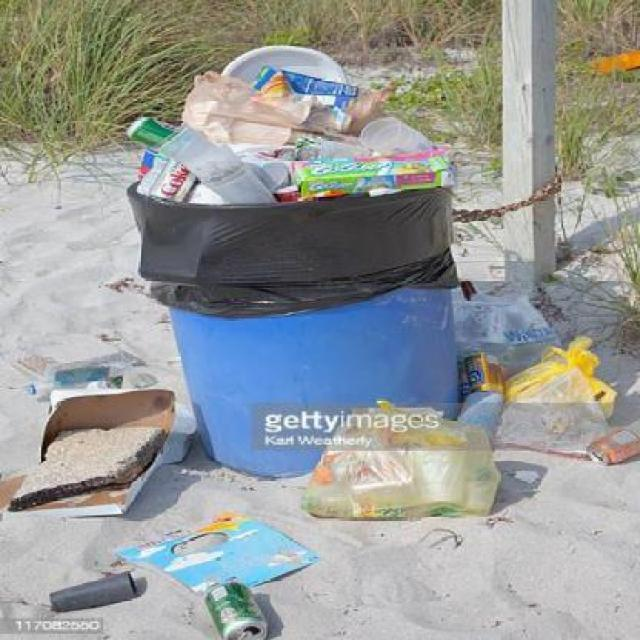garbage: (116, 69, 440, 199), (461, 320, 624, 463), (17, 365, 172, 511)
